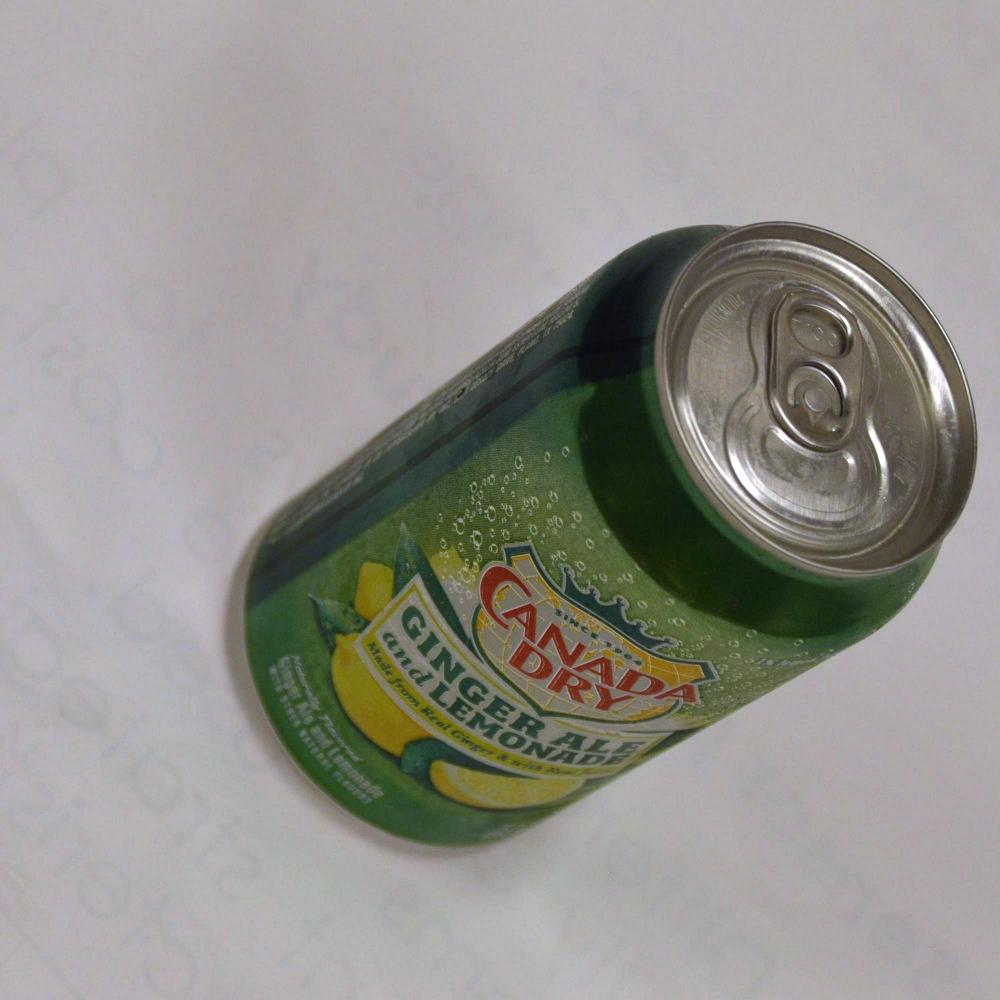Metal: (176, 187, 966, 898)
